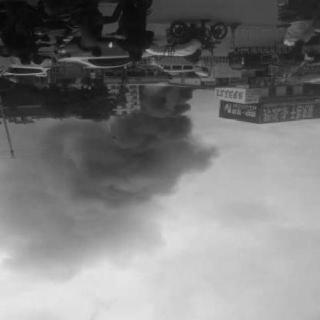Smoke: (38, 85, 214, 248)
